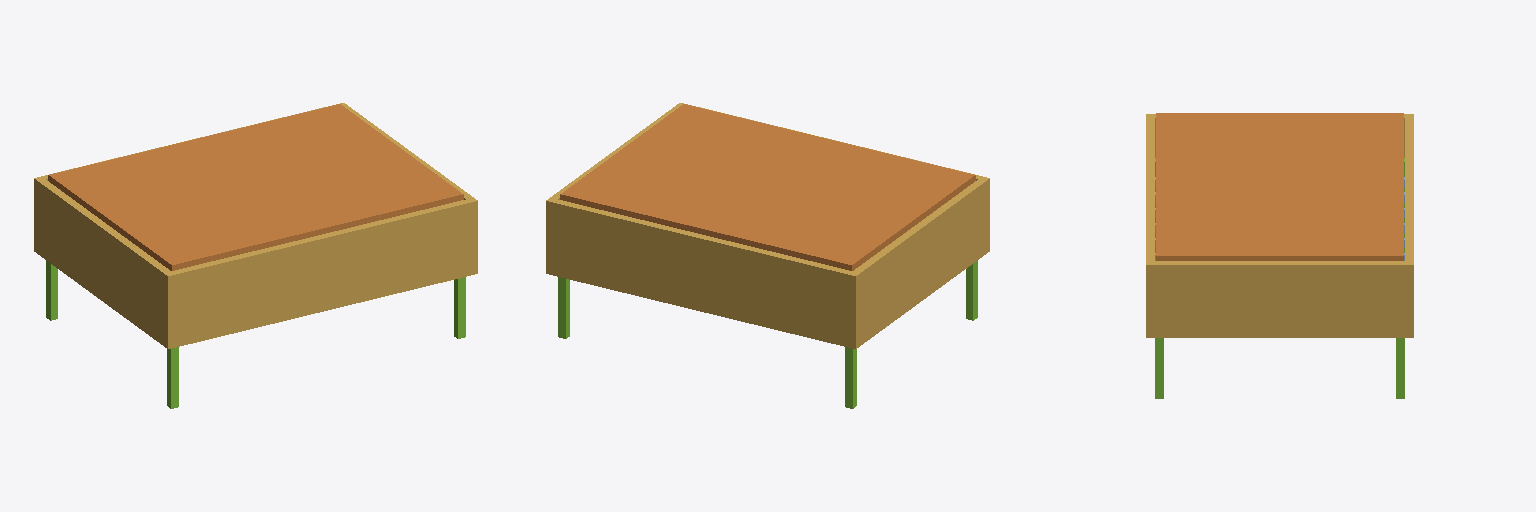
File: cama138x188.obj
The picture shows the model from 3 angles: view 1: azimuth 30°, elevation 25°; view 2: azimuth 150°, elevation 25°; view 3: azimuth 270°, elevation 25°; orthographic projection.
Visible parts, largest first — view 1: cube02, cube09, cube08, cube06, cube05, cube03, cube01; view 2: cube02, cube07, cube08, cube06, cube04, cube01, cube03; view 3: cube02, cube06, cube07, cube09, cube04, cube05.
Part boxes in pixels (bbox=[...]): cube02: bbox=[48, 104, 463, 270]; cube09: bbox=[172, 200, 469, 346]; cube08: bbox=[34, 176, 175, 348]; cube06: bbox=[336, 103, 477, 275]; cube05: bbox=[454, 277, 465, 338]; cube03: bbox=[167, 347, 178, 408]; cube01: bbox=[46, 260, 57, 320]; cube02: bbox=[560, 104, 975, 270]; cube07: bbox=[554, 200, 851, 346]; cube08: bbox=[848, 176, 989, 348]; cube06: bbox=[546, 103, 687, 275]; cube04: bbox=[558, 277, 569, 338]; cube01: bbox=[845, 347, 856, 408]; cube03: bbox=[966, 260, 977, 320]; cube02: bbox=[1156, 113, 1403, 260]; cube06: bbox=[1146, 261, 1413, 337]; cube07: bbox=[1405, 118, 1413, 260]; cube09: bbox=[1146, 118, 1154, 260]; cube04: bbox=[1396, 338, 1404, 398]; cube05: bbox=[1155, 338, 1163, 398].
Bounding box in the file's own units: 200 × 88 × 150.